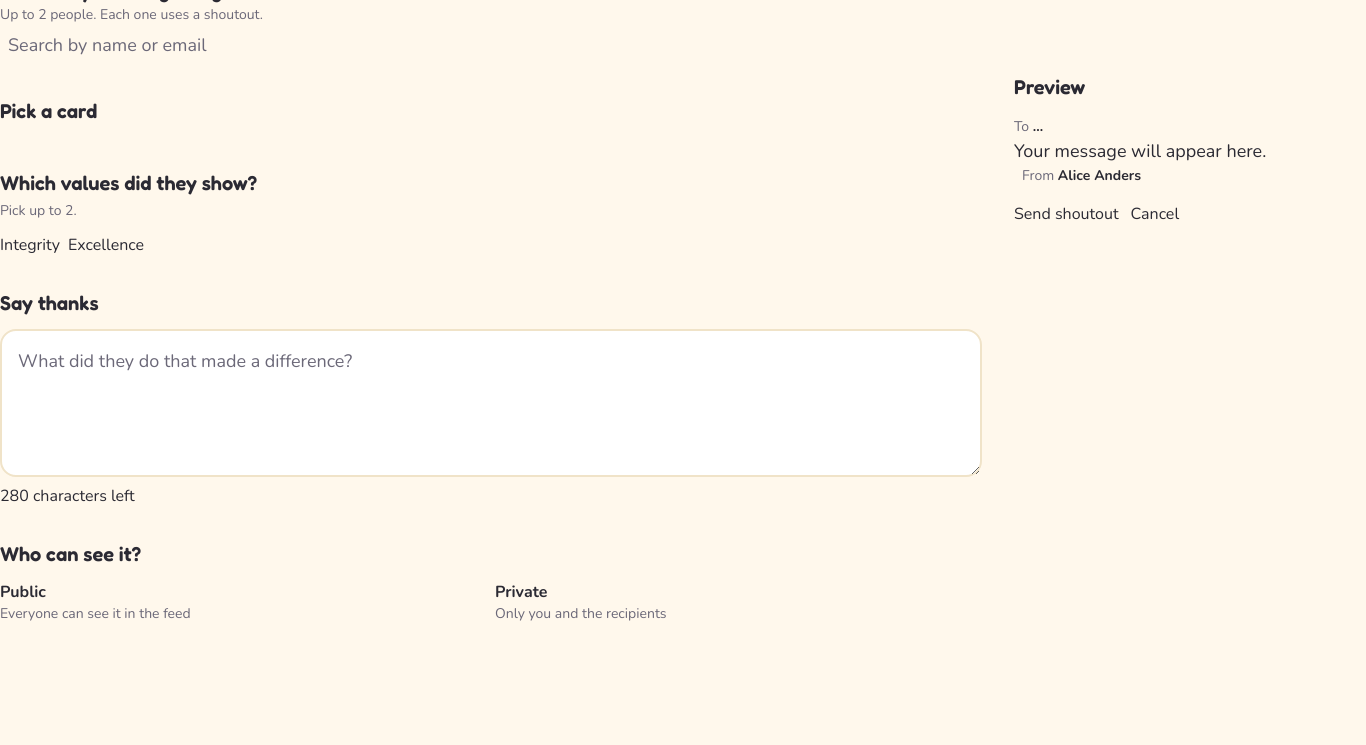
Test: SendShoutoutForm › has no shoutout limit when the budget is off
The image size is (1366, 745).
Step 1. Click the dropdown → (122, 45), box [0,25,245,65]
(page scrolled)
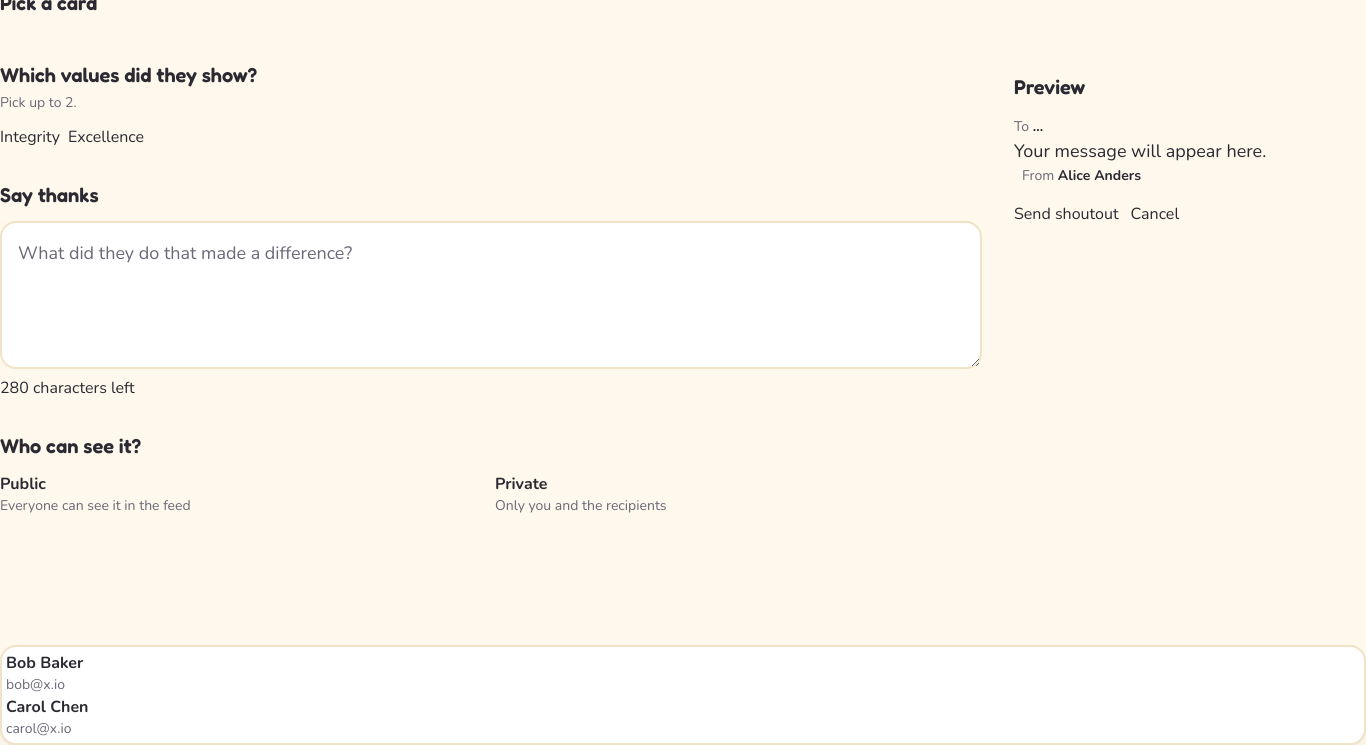
Step 2. Press the mouse on the option "Bob Baker bob@x.io" → (45, 673), box [6,652,83,694]
(page scrolled)
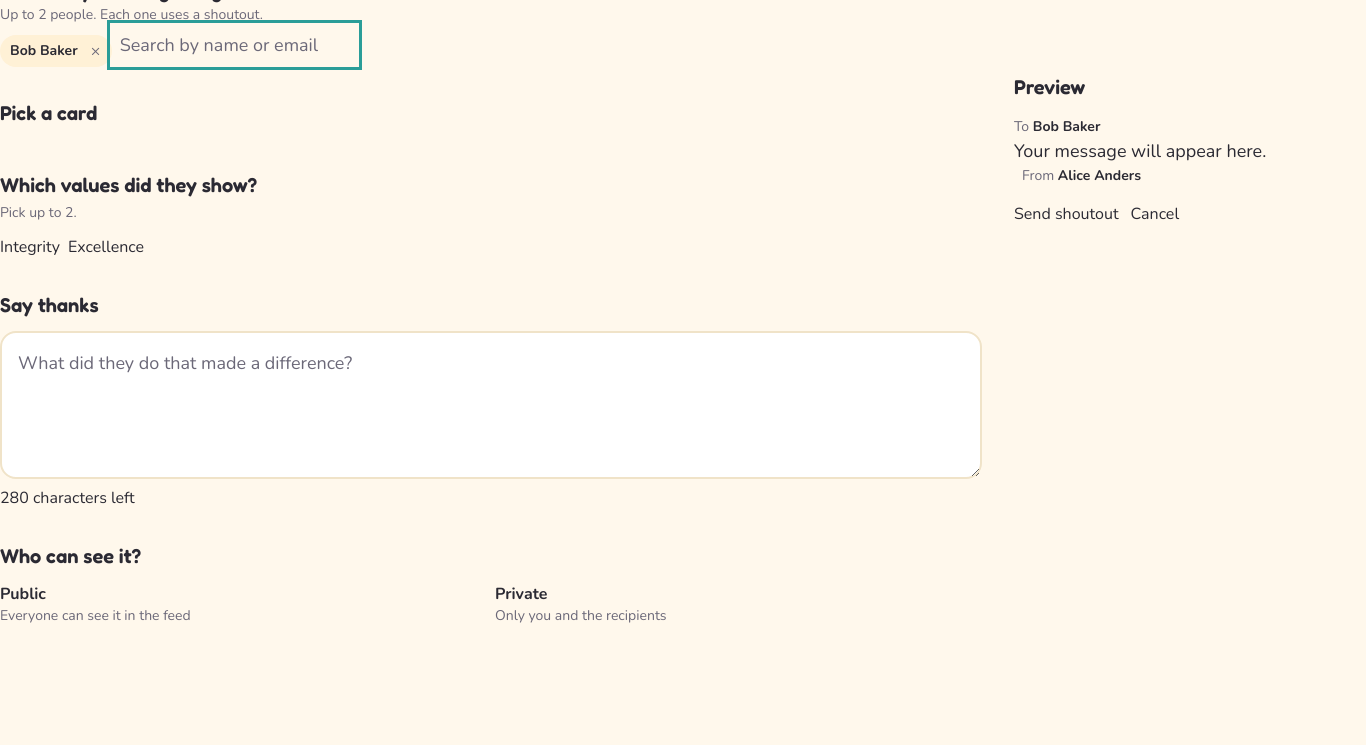
Step 3. Click the dropdown → (234, 45), box [112,25,357,65]
(page scrolled)
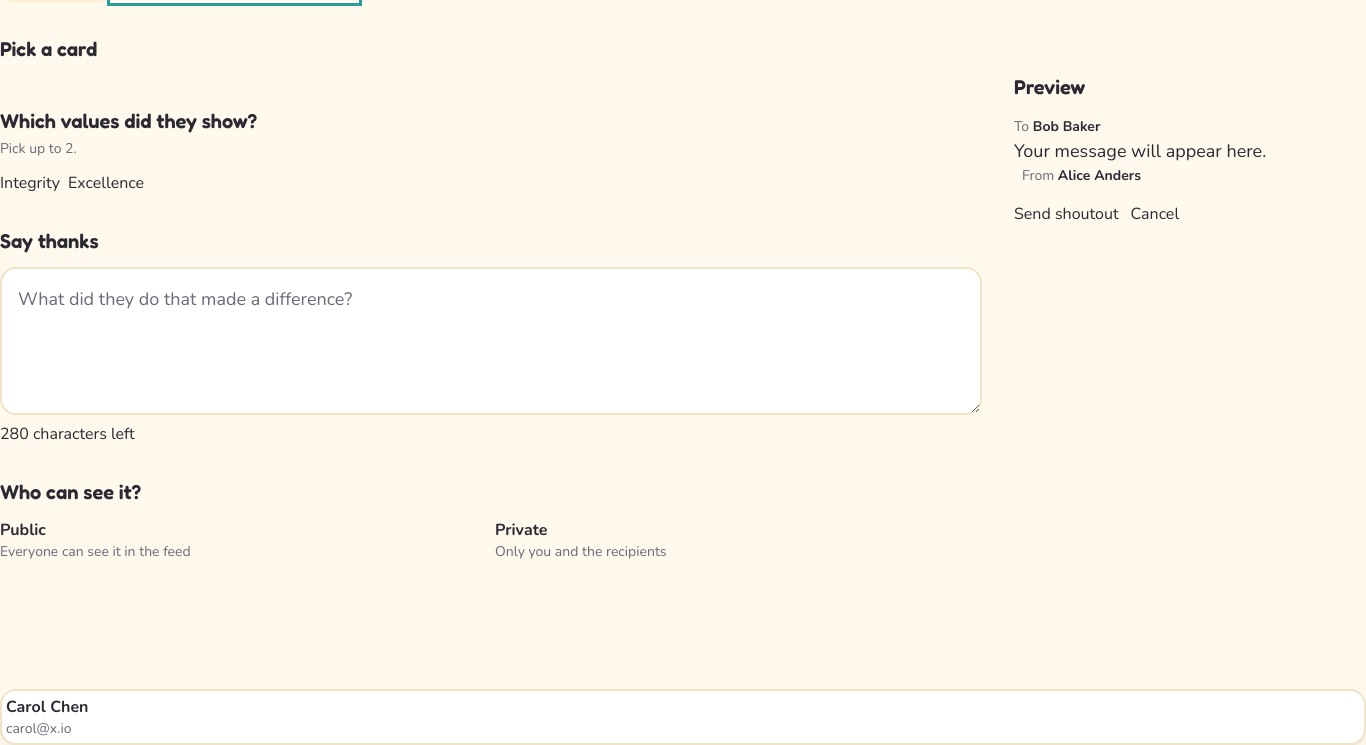
Step 4. Press the mouse on the option "Carol Chen carol@x.io" → (47, 717), box [6,696,88,738]
(page scrolled)
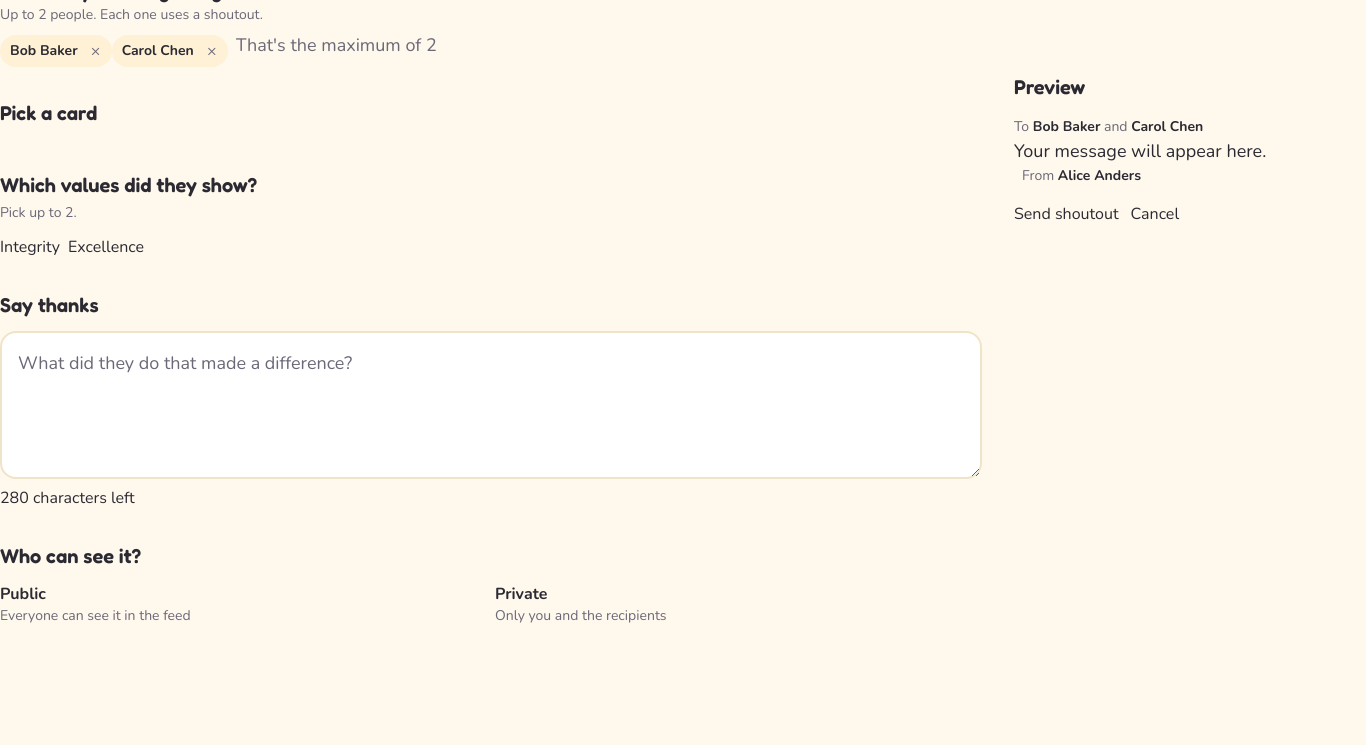
Expected: the button "Send shoutout" is enabled, [1014,202,1118,226]
Now the dropdown is disabled, box [228,25,473,65]
